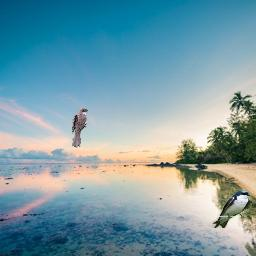Cuckoo: (72, 108, 88, 148)
Swallow: (212, 190, 252, 228)
